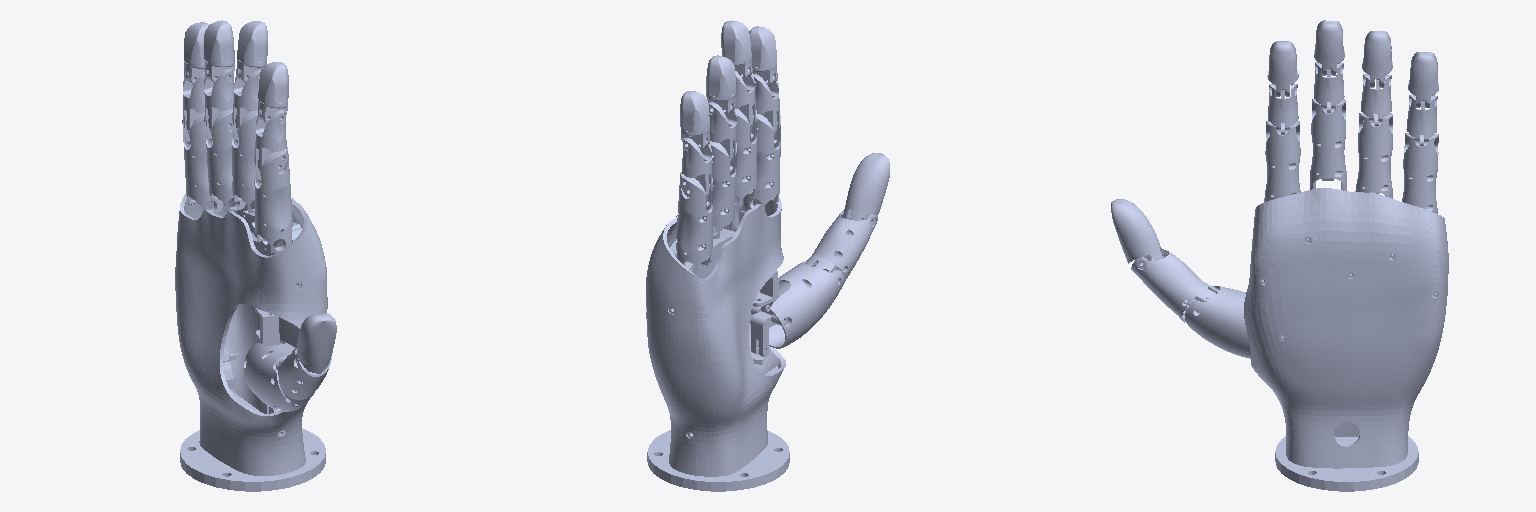
--- Render facts (derived) ---
3 views of the same robot in one strip: view 1: azimuth 30°, elevation 25°; view 2: azimuth 150°, elevation 25°; view 3: azimuth 270°, elevation 25° (orthographic).
Robot: right2 — 25 links, 24 joints (22 revolute, 2 fixed); root link base_link; default pose: all joints at 0.
Links seen in each view (by area): view 1: wrist, palm, FF0, TH1, RF0, LF0, MF0, TH3, TH2, RF2, FF2, MF2 (+6 smaller); view 2: wrist, TH1, palm, LF0, TH2, TH3, FF0, RF0, MF0, RF2, LF2, TH0 (+6 smaller); view 3: wrist, palm, TH1, TH2, MF0, RF0, FF0, LF0, TH3, RF2, LF2, FF2 (+5 smaller).
Boxes of the visible links, x1=… form: wrist: x1=175, y1=194, x2=327, y2=491; palm: x1=175, y1=198, x2=326, y2=491; FF0: x1=254, y1=147, x2=292, y2=252; TH1: x1=244, y1=340, x2=309, y2=411; RF0: x1=204, y1=108, x2=245, y2=211; LF0: x1=182, y1=113, x2=222, y2=212; MF0: x1=232, y1=111, x2=257, y2=212; TH3: x1=296, y1=313, x2=336, y2=373; TH2: x1=276, y1=348, x2=331, y2=404; RF2: x1=204, y1=20, x2=234, y2=82; FF2: x1=258, y1=62, x2=288, y2=123; MF2: x1=236, y1=21, x2=267, y2=82; wrist: x1=646, y1=190, x2=789, y2=491; TH1: x1=749, y1=260, x2=844, y2=348; palm: x1=646, y1=195, x2=789, y2=481; LF0: x1=676, y1=173, x2=713, y2=274; TH2: x1=805, y1=210, x2=877, y2=282; TH3: x1=842, y1=153, x2=889, y2=220; FF0: x1=744, y1=114, x2=780, y2=209; RF0: x1=710, y1=141, x2=736, y2=238; MF0: x1=735, y1=109, x2=756, y2=206; RF2: x1=706, y1=55, x2=735, y2=115; LF2: x1=680, y1=91, x2=709, y2=150; TH0: x1=751, y1=270, x2=778, y2=357; wrist: x1=1244, y1=188, x2=1448, y2=491; palm: x1=1244, y1=188, x2=1448, y2=491; TH1: x1=1183, y1=286, x2=1250, y2=358; TH2: x1=1131, y1=249, x2=1218, y2=322; MF0: x1=1310, y1=99, x2=1346, y2=190; RF0: x1=1355, y1=113, x2=1392, y2=198; FF0: x1=1264, y1=121, x2=1300, y2=201; LF0: x1=1402, y1=133, x2=1438, y2=213; TH3: x1=1111, y1=199, x2=1164, y2=264; RF2: x1=1362, y1=31, x2=1392, y2=87; LF2: x1=1408, y1=52, x2=1438, y2=107; FF2: x1=1267, y1=41, x2=1298, y2=96.
Bounding box of the posed robot: 0.068 × 0.1599 × 0.2287 m (x, y, z).
Meshes: 25 distinct files referenced, 18 mesh visuals loaded (18 binary STL); not drawn: 7 (reference not matched to a file when rendering).

URDF robot description (right2):

<!-- This URDF was automatically created by SolidWorks to URDF Exporter! Originally created by Stephen Brawner ([email redacted]) 
     Commit Version: 1.6.0-4-g7f85cfe  Build Version: 1.6.7995.38578
     For more information, please see http://wiki.ros.org/sw_urdf_exporter -->
<robot
  name="right2">
  <link
    name="base_link">
    <inertial>
      <origin
        xyz="-0.000433277303987328 -3.54664423471128E-05 0.0599427668933796"
        rpy="0 0 0" />
      <mass
        value="0.841070778135659" />
      <inertia
        ixx="0.0017261110801622"
        ixy="2.52746264980217E-06"
        ixz="-3.67690303614961E-05"
        iyy="0.00170987405835604"
        iyz="1.67996364994424E-06"
        izz="0.000904023422915791" />
    </inertial>
    <visual>
      <origin
        xyz="0 0 0"
        rpy="0 0 0" />
      <geometry>
        <mesh
          filename="../meshes/base_link.STL" />
      </geometry>
      <material
        name="">
        <color
          rgba="1 1 1 1" />
      </material>
    </visual>
    <collision>
      <origin
        xyz="0 0 0"
        rpy="0 0 0" />
      <geometry>
        <mesh
          filename="../meshes/base_link.STL" />
      </geometry>
    </collision>
  </link>
  <link
    name="Link1">
    <inertial>
      <origin
        xyz="1.2226305431569E-08 0.0211079974844683 -0.0251854220842269"
        rpy="0 0 0" />
      <mass
        value="0.593563443690403" />
      <inertia
        ixx="0.00126614120341847"
        ixy="-1.294980943835E-08"
        ixz="-9.80120923066996E-09"
        iyy="0.00118168178300364"
        iyz="-0.00021121727444415"
        izz="0.00056135241627747" />
    </inertial>
    <visual>
      <origin
        xyz="0 0 0"
        rpy="0 0 0" />
      <geometry>
        <mesh
          filename="../meshes/link1.STL" />
      </geometry>
      <material
        name="">
        <color
          rgba="1 1 1 1" />
      </material>
    </visual>
    <collision>
      <origin
        xyz="0 0 0"
        rpy="0 0 0" />
      <geometry>
        <mesh
          filename="../meshes/link1.STL" />
      </geometry>
    </collision>
  </link>
  <joint
    name="joint1"
    type="revolute">
    <origin
      xyz="0 0 0.2405"
      rpy="0 0 0" />
    <parent
      link="base_link" />
    <child
      link="Link1" />
    <axis
      xyz="0 0 1" />
    <limit
      lower="-3.1"
      upper="3.1"
      effort="60"
      velocity="3.14" />
  </joint>
  <link
    name="Link2">
    <inertial>
      <origin
        xyz="0.152256463426163 4.75383656106654E-07 -0.00620260383607792"
        rpy="0 0 0" />
      <mass
        value="0.864175046869043" />
      <inertia
        ixx="0.00089150298478414"
        ixy="-2.23268489334765E-08"
        ixz="0.00156246461035015"
        iyy="0.00733754343083901"
        iyz="6.28110889329165E-09"
        izz="0.00697869103915473" />
    </inertial>
    <visual>
      <origin
        xyz="0 0 0"
        rpy="0 0 0" />
      <geometry>
        <mesh
          filename="../meshes/link2.STL" />
      </geometry>
      <material
        name="">
        <color
          rgba="1 1 1 1" />
      </material>
    </visual>
    <collision>
      <origin
        xyz="0 0 0"
        rpy="0 0 0" />
      <geometry>
        <mesh
          filename="../meshes/link2.STL" />
      </geometry>
    </collision>
  </link>
  <joint
    name="joint2"
    type="revolute">
    <origin
      xyz="0 0 0"
      rpy="1.5708 -1.5708 0" />
    <parent
      link="Link1" />
    <child
      link="Link2" />
    <axis
      xyz="0 0 1" />
    <limit
      lower="-2.268"
      upper="2.268"
      effort="60"
      velocity="3.14" />
  </joint>
  <link
    name="Link3">
    <inertial>
      <origin
        xyz="5.05312670989961E-06 -0.0595925663694732 0.010569069212336"
        rpy="0 0 0" />
      <mass
        value="0.289633681624654" />
      <inertia
        ixx="0.00063737100450158"
        ixy="-7.05261293649751E-08"
        ixz="-3.86643272239426E-08"
        iyy="0.00015648388095025"
        iyz="-0.00014461035994916"
        izz="0.000614178164773085" />
    </inertial>
    <visual>
      <origin
        xyz="0 0 0"
        rpy="0 0 0" />
      <geometry>
        <mesh
          filename="../meshes/link3.STL" />
      </geometry>
      <material
        name="">
        <color
          rgba="1 1 1 1" />
      </material>
    </visual>
    <collision>
      <origin
        xyz="0 0 0"
        rpy="0 0 0" />
      <geometry>
        <mesh
          filename="../meshes/link3.STL" />
      </geometry>
    </collision>
  </link>
  <joint
    name="joint3"
    type="revolute">
    <origin
      xyz="0.256 0 0"
      rpy="0 0 1.5708" />
    <parent
      link="Link2" />
    <child
      link="Link3" />
    <axis
      xyz="0 0 1" />
    <limit
      lower="-2.355"
      upper="2.355"
      effort="30"
      velocity="3.92" />
  </joint>
  <link
    name="Link4">
    <inertial>
      <origin
        xyz="1.15516617405898E-06 -0.0180424468598241 -0.0215394748352687"
        rpy="0 0 0" />
      <mass
        value="0.239419768320061" />
      <inertia
        ixx="0.000285938919722783"
        ixy="3.07101359163101E-09"
        ixz="-2.21994118981953E-09"
        iyy="0.000262727540304212"
        iyz="4.4236583260078E-05"
        izz="0.000119888082791859" />
    </inertial>
    <visual>
      <origin
        xyz="0 0 0"
        rpy="0 0 0" />
      <geometry>
        <mesh
          filename="../meshes/link4.STL" />
      </geometry>
      <material
        name="">
        <color
          rgba="1 1 1 1" />
      </material>
    </visual>
    <collision>
      <origin
        xyz="0 0 0"
        rpy="0 0 0" />
      <geometry>
        <mesh
          filename="../meshes/link4.STL" />
      </geometry>
    </collision>
  </link>
  <joint
    name="joint4"
    type="revolute">
    <origin
      xyz="0 -0.21 0"
      rpy="1.5708 0 0" />
    <parent
      link="Link3" />
    <child
      link="Link4" />
    <axis
      xyz="0 0 1" />
    <limit
      lower="-3.1"
      upper="3.1"
      effort="10"
      velocity="3.92" />
  </joint>
  <link
    name="Link5">
    <inertial>
      <origin
        xyz="3.19794786262152E-06 -0.0593808368101458 0.00736804250989326"
        rpy="0 0 0" />
      <mass
        value="0.218799761431678" />
      <inertia
        ixx="0.000350540363914072"
        ixy="-3.41781619975602E-08"
        ixz="-1.77056457224373E-08"
        iyy="0.000104927867487581"
        iyz="-7.82431228461971E-05"
        izz="0.000334482418423629" />
    </inertial>
    <visual>
      <origin
        xyz="0 0 0"
        rpy="0 0 0" />
      <geometry>
        <mesh
          filename="../meshes/link5.STL" />
      </geometry>
      <material
        name="">
        <color
          rgba="1 1 1 1" />
      </material>
    </visual>
    <collision>
      <origin
        xyz="0 0 0"
        rpy="0 0 0" />
      <geometry>
        <mesh
          filename="../meshes/link5.STL" />
      </geometry>
    </collision>
  </link>
  <joint
    name="joint5"
    type="revolute">
    <origin
      xyz="0 0 0"
      rpy="-1.5708 0 0" />
    <parent
      link="Link4" />
    <child
      link="Link5" />
    <axis
      xyz="0 0 1" />
    <limit
      lower="-2.233"
      upper="2.233"
      effort="10"
      velocity="3.92" />
  </joint>
  <link
    name="Link6">
    <inertial>
      <origin
        xyz="0.000714234511756999 -0.000396718732824521 -0.0126723660946126"
        rpy="0 0 0" />
      <mass
        value="0.0649018034311231" />
      <inertia
        ixx="2.02766547502765E-05"
        ixy="-1.32505200276849E-06"
        ixz="-2.5845091522508E-08"
        iyy="1.87986725225022E-05"
        iyz="3.39471452125439E-09"
        izz="3.17885459163081E-05" />
    </inertial>
    <visual>
      <origin
        xyz="0 0 0"
        rpy="0 0 0" />
      <geometry>
        <mesh
          filename="../meshes/link6.STL" />
      </geometry>
      <material
        name="">
        <color
          rgba="1 1 1 1" />
      </material>
    </visual>
    <collision>
      <origin
        xyz="0 0 0"
        rpy="0 0 0" />
      <geometry>
        <mesh
          filename="../meshes/link6.STL" />
      </geometry>
    </collision>
  </link>
  <joint
    name="joint6"
    type="revolute">
    <origin
      xyz="0 -0.144 0"
      rpy="1.5708 0 0" />
    <parent
      link="Link5" />
    <child
      link="Link6" />
    <axis
      xyz="0 0 1" />
    <limit
      lower="-6.28"
      upper="6.28"
      effort="10"
      velocity="3.92" />
  </joint>
  <link
    name="wrist">
    <inertial>
      <origin
        xyz="-0.00247592937421439 0.0014638295420362 0.0596751337524339"
        rpy="0 0 0" />
      <mass
        value="0.0771455638694992" />
      <inertia
        ixx="0.000167964407715897"
        ixy="-4.2242565283346E-06"
        ixz="1.14067352992754E-06"
        iyy="0.000199450850048922"
        iyz="-7.66037329164335E-06"
        izz="6.53655868651572E-05" />
    </inertial>
    <visual>
      <origin
        xyz="0 0 0"
        rpy="0 0 0" />
      <geometry>
        <mesh
          filename="../meshes/wrist.STL" />
      </geometry>
      <material
        name="">
        <color
          rgba="0.792156862745098 0.819607843137255 0.933333333333333 1" />
      </material>
    </visual>
    <collision>
      <origin
        xyz="0 0 0"
        rpy="0 0 0" />
      <geometry>
        <mesh
          filename="../meshes/wrist.STL" />
      </geometry>
    </collision>
  </link>
  <joint
    name="wrist_joint"
    type="fixed">
    <origin
      xyz="0 0 0"
      rpy="0 0 1.57" />
    <parent
      link="Link6" />
    <child
      link="wrist" />
    <axis
      xyz="0 0 0" />
  </joint>
  <link
    name="palm">
    <inertial>
      <origin
        xyz="-0.00247592937421439 0.0164638295420362 -0.0303248662475661"
        rpy="0 0 0" />
      <mass
        value="0.0771455638694992" />
      <inertia
        ixx="0.000167964407715897"
        ixy="-4.2242565283346E-06"
        ixz="1.14067352992754E-06"
        iyy="0.000199450850048922"
        iyz="-7.66037329164336E-06"
        izz="6.53655868651572E-05" />
    </inertial>
    <visual>
      <origin
        xyz="0 0 0"
        rpy="0 0 0" />
      <geometry>
        <mesh
          filename="../meshes/palm.STL" />
      </geometry>
      <material
        name="">
        <color
          rgba="0.792156862745098 0.819607843137255 0.933333333333333 1" />
      </material>
    </visual>
    <collision>
      <origin
        xyz="0 0 0"
        rpy="0 0 0" />
      <geometry>
        <mesh
          filename="../meshes/palm.STL" />
      </geometry>
    </collision>
  </link>
  <joint
    name="palm"
    type="fixed">
    <origin
      xyz="0 -0.015 0.09"
      rpy="0 0 0" />
    <parent
      link="wrist" />
    <child
      link="palm" />
    <axis
      xyz="0 0 0" />
  </joint>
  <link
    name="FF0">
    <inertial>
      <origin
        xyz="7.00166455354367E-05 0.000950121117313191 0.0240589911295882"
        rpy="0 0 0" />
      <mass
        value="0.00340282682484346" />
      <inertia
        ixx="6.6495743598965E-07"
        ixy="3.48722485148618E-12"
        ixz="-4.40858285888501E-11"
        iyy="6.11220024394857E-07"
        iyz="2.23449635088868E-08"
        izz="8.15884422864446E-08" />
    </inertial>
    <visual>
      <origin
        xyz="0 0 0"
        rpy="0 0 0" />
      <geometry>
        <mesh
          filename="../meshes/FF0.STL" />
      </geometry>
      <material
        name="">
        <color
          rgba="0.792156862745098 0.819607843137255 0.933333333333333 1" />
      </material>
    </visual>
    <collision>
      <origin
        xyz="0 0 0"
        rpy="0 0 0" />
      <geometry>
        <mesh
          filename="../meshes/FF0.STL" />
      </geometry>
    </collision>
  </link>
  <joint
    name="FFJ0"
    type="revolute">
    <origin
      xyz="0.030314 0.0072 0.038239"
      rpy="0 0 0" />
    <parent
      link="palm" />
    <child
      link="FF0" />
    <axis
      xyz="1 0 0" />
    <limit
      lower="0"
      upper="1.39"
      effort="0"
      velocity="0" />
  </joint>
  <link
    name="FF1">
    <inertial>
      <origin
        xyz="-0.000104409937021419 -0.00139786656716886 0.0122389215698595"
        rpy="0 0 0" />
      <mass
        value="0.00218242124969014" />
      <inertia
        ixx="1.32355715765547E-07"
        ixy="-3.43392911246622E-11"
        ixz="-7.1034526484635E-11"
        iyy="1.36082091782929E-07"
        iyz="-8.06157651828419E-09"
        izz="5.57728877046467E-08" />
    </inertial>
    <visual>
      <origin
        xyz="0 0 0"
        rpy="0 0 0" />
      <geometry>
        <mesh
          filename="../meshes/FF1.STL" />
      </geometry>
      <material
        name="">
        <color
          rgba="0.792156862745098 0.819607843137255 0.933333333333333 1" />
      </material>
    </visual>
    <collision>
      <origin
        xyz="0 0 0"
        rpy="0 0 0" />
      <geometry>
        <mesh
          filename="../meshes/FF1.STL" />
      </geometry>
    </collision>
  </link>
  <joint
    name="FFJ1"
    type="revolute">
    <origin
      xyz="5E-05 0.0012951 0.038702"
      rpy="0 0 0" />
    <parent
      link="FF0" />
    <child
      link="FF1" />
    <axis
      xyz="0.99996 0 0.0087599" />
    <limit
      lower="-0.07"
      upper="1.57"
      effort="0"
      velocity="0" />
  </joint>
  <link
    name="FF2">
    <inertial>
      <origin
        xyz="-2.55604297637671E-06 -0.00101426524476497 0.0121070681695866"
        rpy="0 0 0" />
      <mass
        value="0.00307284249169472" />
      <inertia
        ixx="1.28587414609768E-07"
        ixy="-4.81612467000789E-11"
        ixz="-5.95544294531899E-11"
        iyy="1.28091604598607E-07"
        iyz="-2.26086116259272E-08"
        izz="6.35649135673993E-08" />
    </inertial>
    <visual>
      <origin
        xyz="0 0 0"
        rpy="0 0 0" />
      <geometry>
        <mesh
          filename="../meshes/FF2.STL" />
      </geometry>
      <material
        name="">
        <color
          rgba="0.792156862745098 0.819607843137255 0.933333333333333 1" />
      </material>
    </visual>
    <collision>
      <origin
        xyz="0 0 0"
        rpy="0 0 0" />
      <geometry>
        <mesh
          filename="../meshes/FF2.STL" />
      </geometry>
    </collision>
  </link>
  <joint
    name="FFJ2"
    type="revolute">
    <origin
      xyz="-5E-05 0.0014086 0.024473"
      rpy="0 0 0" />
    <parent
      link="FF1" />
    <child
      link="FF2" />
    <axis
      xyz="1 0 0" />
    <limit
      lower="-0.07"
      upper="1.127"
      effort="0"
      velocity="0" />
  </joint>
  <link
    name="MF0">
    <inertial>
      <origin
        xyz="-0.000140651139969899 0.00127355885228241 0.0240478548452309"
        rpy="0 0 0" />
      <mass
        value="0.00340282726894856" />
      <inertia
        ixx="6.64913843571931E-07"
        ixy="-1.28723834722312E-10"
        ixz="5.07088557442804E-09"
        iyy="6.11779898767452E-07"
        iyz="1.50180815292593E-08"
        izz="8.10729973708581E-08" />
    </inertial>
    <visual>
      <origin
        xyz="0 0 0"
        rpy="0 0 0" />
      <geometry>
        <mesh
          filename="../meshes/MF0.STL" />
      </geometry>
      <material
        name="">
        <color
          rgba="0.792156862745098 0.819607843137255 0.933333333333333 1" />
      </material>
    </visual>
    <collision>
      <origin
        xyz="0 0 0"
        rpy="0 0 0" />
      <geometry>
        <mesh
          filename="../meshes/MF0.STL" />
      </geometry>
    </collision>
  </link>
  <joint
    name="MFJ0"
    type="revolute">
    <origin
      xyz="0.0088831 0.0072 0.049976"
      rpy="0 0 0" />
    <parent
      link="palm" />
    <child
      link="MF0" />
    <axis
      xyz="0.99996 0 0.0087599" />
    <limit
      lower="0"
      upper="1.39"
      effort="0"
      velocity="0" />
  </joint>
  <link
    name="MF1">
    <inertial>
      <origin
        xyz="-5.48418025073574E-05 -0.00111605222293705 0.012269121639847"
        rpy="0 0 0" />
      <mass
        value="0.00218242018954755" />
      <inertia
        ixx="1.32350991647346E-07"
        ixy="5.08301342576271E-11"
        ixz="5.97092837866775E-10"
        iyy="1.35674048012015E-07"
        iyz="-9.91626705114883E-09"
        izz="5.61853930829808E-08" />
    </inertial>
    <visual>
      <origin
        xyz="0 0 0"
        rpy="0 0 0" />
      <geometry>
        <mesh
          filename="../meshes/MF1.STL" />
      </geometry>
      <material
        name="">
        <color
          rgba="0.792156862745098 0.819607843137255 0.933333333333333 1" />
      </material>
    </visual>
    <collision>
      <origin
        xyz="0 0 0"
        rpy="0 0 0" />
      <geometry>
        <mesh
          filename="../meshes/MF1.STL" />
      </geometry>
    </collision>
  </link>
  <joint
    name="MFJ1"
    type="revolute">
    <origin
      xyz="-0.00033884 0.0018214 0.038679"
      rpy="0 0 0" />
    <parent
      link="MF0" />
    <child
      link="MF1" />
    <axis
      xyz="0.99996 0 0.0087599" />
    <limit
      lower="-0.07"
      upper="1.57"
      effort="0"
      velocity="0" />
  </joint>
  <link
    name="MF2">
    <inertial>
      <origin
        xyz="-0.000108805218319756 -0.000669355349610357 0.012130526247003"
        rpy="0 0 0" />
      <mass
        value="0.00307283148657926" />
      <inertia
        ixx="1.28583442993954E-07"
        ixy="1.64058193898316E-10"
        ixz="4.99353776572557E-10"
        iyy="1.26752961997187E-07"
        iyz="-2.4406820811984E-08"
        izz="6.49066676100992E-08" />
    </inertial>
    <visual>
      <origin
        xyz="0 0 0"
        rpy="0 0 0" />
      <geometry>
        <mesh
          filename="../meshes/MF2.STL" />
      </geometry>
      <material
        name="">
        <color
          rgba="0.792156862745098 0.819607843137255 0.933333333333333 1" />
      </material>
    </visual>
    <collision>
      <origin
        xyz="0 0 0"
        rpy="0 0 0" />
      <geometry>
        <mesh
          filename="../meshes/MF2.STL" />
      </geometry>
    </collision>
  </link>
  <joint
    name="MFJ2"
    type="revolute">
    <origin
      xyz="-0.00011404 0.0019726 0.024433"
      rpy="0 0 0" />
    <parent
      link="MF1" />
    <child
      link="MF2" />
    <axis
      xyz="0.99996 0 0.0087599" />
    <limit
      lower="-0.07"
      upper="1.127"
      effort="0"
      velocity="0" />
  </joint>
  <link
    name="RF0">
    <inertial>
      <origin
        xyz="-0.000570328345285183 0.000202254319991856 0.0240602338797061"
        rpy="0 0 0" />
      <mass
        value="0.00340282455097561" />
      <inertia
        ixx="6.64560413307373E-07"
        ixy="-1.02259540202156E-09"
        ixz="1.51871274015525E-08"
        iyy="6.09152824117911E-07"
        iyz="3.91805937044649E-08"
        izz="8.40527079571735E-08" />
    </inertial>
    <visual>
      <origin
        xyz="0 0 0"
        rpy="0 0 0" />
      <geometry>
        <mesh
          filename="../meshes/RF0.STL" />
      </geometry>
      <material
        name="">
        <color
          rgba="0.792156862745098 0.819607843137255 0.933333333333333 1" />
      </material>
    </visual>
    <collision>
      <origin
        xyz="0 0 0"
        rpy="0 0 0" />
      <geometry>
        <mesh
          filename="../meshes/RF0.STL" />
      </geometry>
    </collision>
  </link>
  <joint
    name="RFJ0"
    type="revolute">
    <origin
      xyz="-0.01265 0.0072 0.041936"
      rpy="0 0 0" />
    <parent
      link="palm" />
    <child
      link="RF0" />
    <axis
      xyz="0.99966 0 0.02621" />
    <limit
      lower="0"
      upper="1.39"
      effort="0"
      velocity="0" />
  </joint>
  <link
    name="RF1">
    <inertial>
      <origin
        xyz="-0.000297541855045363 -0.00205507800406111 0.0121390169798965"
        rpy="0 0 0" />
      <mass
        value="0.00218242274038732" />
      <inertia
        ixx="1.32306500254415E-07"
        ixy="6.54373375836821E-11"
        ixz="1.95001673135777E-09"
        iyy="1.36698012654871E-07"
        iyz="-3.65550918707972E-09"
        izz="5.52062863642081E-08" />
    </inertial>
    <visual>
      <origin
        xyz="0 0 0"
        rpy="0 0 0" />
      <geometry>
        <mesh
          filename="../meshes/RF1.STL" />
      </geometry>
      <material
        name="">
        <color
          rgba="0.792156862745098 0.819607843137255 0.933333333333333 1" />
      </material>
    </visual>
    <collision>
      <origin
        xyz="0 0 0"
        rpy="0 0 0" />
      <geometry>
        <mesh
          filename="../meshes/RF1.STL" />
      </geometry>
    </collision>
  </link>
  <joint
    name="RFJ1"
    type="revolute">
    <origin
      xyz="-0.0010149 7.7837E-05 0.03871"
      rpy="0 0 0" />
    <parent
      link="RF0" />
    <child
      link="RF1" />
    <axis
      xyz="0.99966 0 0.02621" />
    <limit
      lower="-0.07"
      upper="1.57"
      effort="0"
      velocity="0" />
  </joint>
  <link
    name="RF2">
    <inertial>
      <origin
        xyz="-0.000317354866876307 -0.00182471219249312 0.0120074054811732"
        rpy="0 0 0" />
      <mass
        value="0.00307281900100635" />
      <inertia
        ixx="1.28543258337994E-07"
        ixy="4.30011462524844E-10"
        ixz="1.7121724978983E-09"
        iyy="1.30827973215464E-07"
        iyz="-1.80782796827039E-08"
        izz="6.08700795957373E-08" />
    </inertial>
    <visual>
      <origin
        xyz="0 0 0"
        rpy="0 0 0" />
      <geometry>
        <mesh
          filename="../meshes/RF2.STL" />
      </geometry>
      <material
        name="">
        <color
          rgba="0.792156862745098 0.819607843137255 0.933333333333333 1" />
      </material>
    </visual>
    <collision>
      <origin
        xyz="0 0 0"
        rpy="0 0 0" />
      <geometry>
        <mesh
          filename="../meshes/RF2.STL" />
      </geometry>
    </collision>
  </link>
  <joint
    name="RFJ2"
    type="revolute">
    <origin
      xyz="-0.00054253 8.4052E-05 0.024507"
      rpy="0 0 0" />
    <parent
      link="RF1" />
    <child
      link="RF2" />
    <axis
      xyz="0.99966 0 0.02621" />
    <limit
      lower="-0.07"
      upper="1.127"
      effort="0"
      velocity="0" />
  </joint>
  <link
    name="LF0">
    <inertial>
      <origin
        xyz="-0.000770708846260876 0.000597501511633953 0.0240534510870175"
        rpy="0 0 0" />
      <mass
        value="0.00340282754430685" />
      <inertia
        ixx="6.64250162017662E-07"
        ixy="-1.05472430919717E-09"
        ixz="2.02930842638592E-08"
        iyy="6.10380146421846E-07"
        iyz="3.02888204462157E-08"
        izz="8.31366817951987E-08" />
    </inertial>
    <visual>
      <origin
        xyz="0 0 0"
        rpy="0 0 0" />
      <geometry>
        <mesh
          filename="../meshes/LF0.STL" />
      </geometry>
      <material
        name="">
        <color
          rgba="0.792156862745098 0.819607843137255 0.933333333333333 1" />
      </material>
    </visual>
    <collision>
      <origin
        xyz="0 0 0"
        rpy="0 0 0" />
      <geometry>
        <mesh
          filename="../meshes/LF0.STL" />
      </geometry>
    </collision>
  </link>
  <joint
    name="LFJ0"
    type="revolute">
    <origin
      xyz="-0.03389 0.0072 0.03182"
      rpy="0 0 0" />
    <parent
      link="palm" />
    <child
      link="LF0" />
    <axis
      xyz="0.99939 0 0.034933" />
    <limit
      lower="0"
      upper="1.39"
      effort="0"
      velocity="0" />
  </joint>
    <link
    name="LF1">
    <inertial>
      <origin
        xyz="-0.000382902709803901 -0.00170685639255911 0.0121922537164741"
        rpy="0 0 0" />
      <mass
        value="0.002182422515441" />
      <inertia
        ixx="1.3226687345527E-07"
        ixy="1.7724647757111E-10"
        ixz="2.61407781785452E-09"
        iyy="1.36430822512693E-07"
        iyz="-6.00037391823919E-09"
        izz="5.5513118767353E-08" />
    </inertial>
    <visual>
      <origin
        xyz="0 0 0"
        rpy="0 0 0" />
      <geometry>
        <mesh
          filename="../meshes/LF1.STL" />
      </geometry>
      <material
        name="">
        <color
          rgba="0.792156862745098 0.819607843137255 0.933333333333333 1" />
      </material>
    </visual>
    <collision>
      <origin
        xyz="0 0 0"
        rpy="0 0 0" />
      <geometry>
        <mesh
          filename="../meshes/LF1.STL" />
      </geometry>
    </collision>
  </link>
  <joint
    name="LFJ1"
    type="revolute">
    <origin
      xyz="-0.00135247819856005 0.000721262297375079 0.0386928399897618"
      rpy="0 0 0" />
    <parent
      link="LF0" />
    <child
      link="LF1" />
    <axis
      xyz="0.999389660336969 0 -0.0349328901117218" />
    <limit
      lower="-0.07"
      upper="1.57"
      effort="0"
      velocity="0" />
  </joint>
  <link
    name="LF2">
    <inertial>
      <origin
        xyz="-0.000424168403777542 -0.00139429835122736 0.0120617437382613"
        rpy="0 0 0" />
      <mass
        value="0.0030728393692949" />
      <inertia
        ixx="1.28510476360404E-07"
        ixy="6.71175101887111E-10"
        ixz="2.25655307760529E-09"
        iyy="1.29448157275726E-07"
        iyz="-2.05258633802329E-08"
        izz="6.22848756035437E-08" />
    </inertial>
    <visual>
      <origin
        xyz="0 0 0"
        rpy="0 0 0" />
      <geometry>
        <mesh
          filename="../meshes/LF2.STL" />
      </geometry>
      <material
        name="">
        <color
          rgba="0.792156862745098 0.819607843137255 0.933333333333333 1" />
      </material>
    </visual>
    <collision>
      <origin
        xyz="0 0 0"
        rpy="0 0 0" />
      <geometry>
        <mesh
          filename="../meshes/LF2.STL" />
      </geometry>
    </collision>
  </link>
  <joint
    name="LFJ2"
    type="revolute">
    <origin
      xyz="-0.000755930067219857 0.000787496279419946 0.0244889183340246"
      rpy="0 0 0" />
    <parent
      link="LF1" />
    <child
      link="LF2" />
    <axis
      xyz="0.999389660336969 0 -0.0349328901117186" />
    <limit
      lower="-0.07"
      upper="1.127"
      effort="0"
      velocity="0" />
  </joint>
  <link
    name="TH0">
    <inertial>
      <origin
        xyz="0.00462408446386983 -0.000961790973832222 -0.0113430732372831"
        rpy="0 0 0" />
      <mass
        value="0.00177583022253779" />
      <inertia
        ixx="1.76864920905495E-07"
        ixy="2.57871259710709E-09"
        ixz="-3.32802905752345E-08"
        iyy="1.88229232588625E-07"
        iyz="7.07640323891743E-09"
        izz="3.22177737721845E-08" />
    </inertial>
    <visual>
      <origin
        xyz="0 0 0"
        rpy="0 0 0" />
      <geometry>
        <mesh
          filename="../meshes/TH0.STL" />
      </geometry>
      <material
        name="">
        <color
          rgba="0.792156862745098 0.819607843137255 0.933333333333333 1" />
      </material>
    </visual>
    <collision>
      <origin
        xyz="0 0 0"
        rpy="0 0 0" />
      <geometry>
        <mesh
          filename="../meshes/TH0.STL" />
      </geometry>
    </collision>
  </link>
  <joint
    name="THJ0"
    type="revolute">
    <origin
      xyz="0.024308 0.0072 -0.0072638"
      rpy="0 0 0" />
    <parent
      link="palm" />
    <child
      link="TH0" />
    <axis
      xyz="0.0087599 0 -0.99996" />
    <limit
      lower="0"
      upper="2.2"
      effort="0"
      velocity="0" />
  </joint>
  <link
    name="TH1">
    <inertial>
      <origin
        xyz="0.0209989287960407 -0.0044839309897998 -0.000378600876154017"
        rpy="0 0 0" />
      <mass
        value="0.00445548451996696" />
      <inertia
        ixx="4.3589278442614E-07"
        ixy="1.54823141813748E-07"
        ixz="-9.32945480700911E-08"
        iyy="1.14564085893519E-06"
        iyz="1.9758490626865E-08"
        izz="8.83875748153087E-07" />
    </inertial>
    <visual>
      <origin
        xyz="0 0 0"
        rpy="0 0 0" />
      <geometry>
        <mesh
          filename="../meshes/TH1.STL" />
      </geometry>
      <material
        name="">
        <color
          rgba="0.792156862745098 0.819607843137255 0.933333333333333 1" />
      </material>
    </visual>
    <collision>
      <origin
        xyz="0 0 0"
        rpy="0 0 0" />
      <geometry>
        <mesh
          filename="../meshes/TH1.STL" />
      </geometry>
    </collision>
  </link>
  <joint
    name="THJ1"
    type="revolute">
    <origin
      xyz="0.0074818 -0.0015357 -0.016035"
      rpy="0 0 0" />
    <parent
      link="TH0" />
    <child
      link="TH1" />
    <axis
      xyz="-0.20476 -0.97881 -0.0017937" />
    <limit
      lower="0"
      upper="0.7"
      effort="0"
      velocity="0" />
  </joint>
  <link
    name="TH2">
    <inertial>
      <origin
        xyz="0.0132450306874748 -0.00266900125812411 0.00971292248532718"
        rpy="0 0 0" />
      <mass
        value="0.00247793427805403" />
      <inertia
        ixx="1.57049393025768E-07"
        ixy="3.81404877574595E-08"
        ixz="-5.63305034770015E-08"
        iyy="3.31461383793095E-07"
        iyz="1.19183783374038E-08"
        izz="2.30181616209287E-07" />
    </inertial>
    <visual>
      <origin
        xyz="0 0 0"
        rpy="0 0 0" />
      <geometry>
        <mesh
          filename="../meshes/TH2.STL" />
      </geometry>
      <material
        name="">
        <color
          rgba="0.792156862745098 0.819607843137255 0.933333333333333 1" />
      </material>
    </visual>
    <collision>
      <origin
        xyz="0 0 0"
        rpy="0 0 0" />
      <geometry>
        <mesh
          filename="../meshes/TH2.STL" />
      </geometry>
    </collision>
  </link>
  <joint
    name="THJ2"
    type="revolute">
    <origin
      xyz="0.037244 -0.0079076 0.0077723"
      rpy="0 0 0" />
    <parent
      link="TH1" />
    <child
      link="TH2" />
    <axis
      xyz="0.20476 -0.97881 0.0017937" />
    <limit
      lower="0"
      upper="0.928"
      effort="0"
      velocity="0" />
  </joint>
  <link
    name="TH3">
    <inertial>
      <origin
        xyz="0.00493732956691301 -0.00105988909054855 0.0130270358371125"
        rpy="0 0 0" />
      <mass
        value="0.00562433351956097" />
      <inertia
        ixx="3.38813500437079E-07"
        ixy="1.02933076078465E-08"
        ixz="-1.13448617541441E-07"
        iyy="3.85964474249274E-07"
        iyz="2.3982289968725E-08"
        izz="2.44151407236283E-07" />
    </inertial>
    <visual>
      <origin
        xyz="0 0 0"
        rpy="0 0 0" />
      <geometry>
        <mesh
          filename="../meshes/TH3.STL" />
      </geometry>
      <material
        name="">
        <color
          rgba="0.792156862745098 0.819607843137255 0.933333333333333 1" />
      </material>
    </visual>
    <collision>
      <origin
        xyz="0 0 0"
        rpy="0 0 0" />
      <geometry>
        <mesh
          filename="../meshes/TH3.STL" />
      </geometry>
    </collision>
  </link>
  <joint
    name="THJ3"
    type="revolute">
    <origin
      xyz="0.026651 -0.005665 0.021132"
      rpy="0 0 0" />
    <parent
      link="TH2" />
    <child
      link="TH3" />
    <axis
      xyz="0.20476 -0.97881 0.0017937" />
    <limit
      lower="0"
      upper="1.136"
      effort="0"
      velocity="0" />
  </joint>
</robot>
